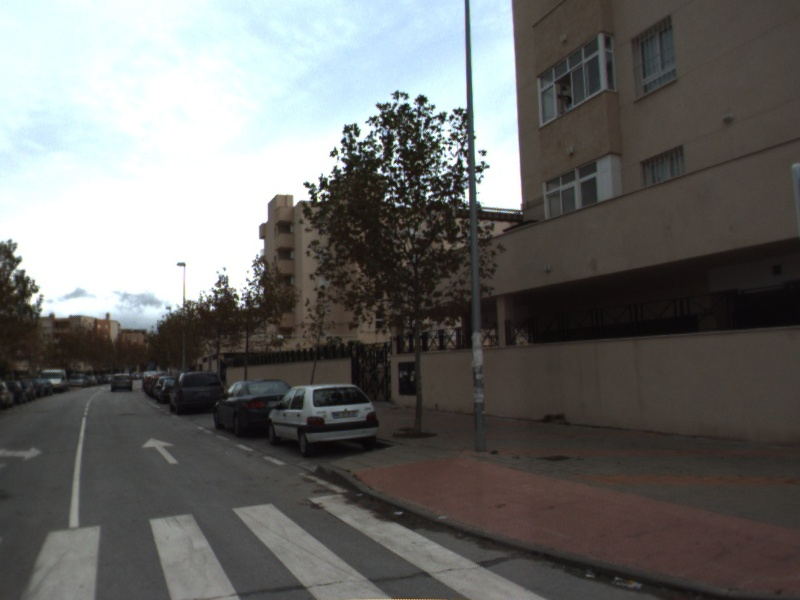STRAIGHT: (140, 436, 180, 466)
